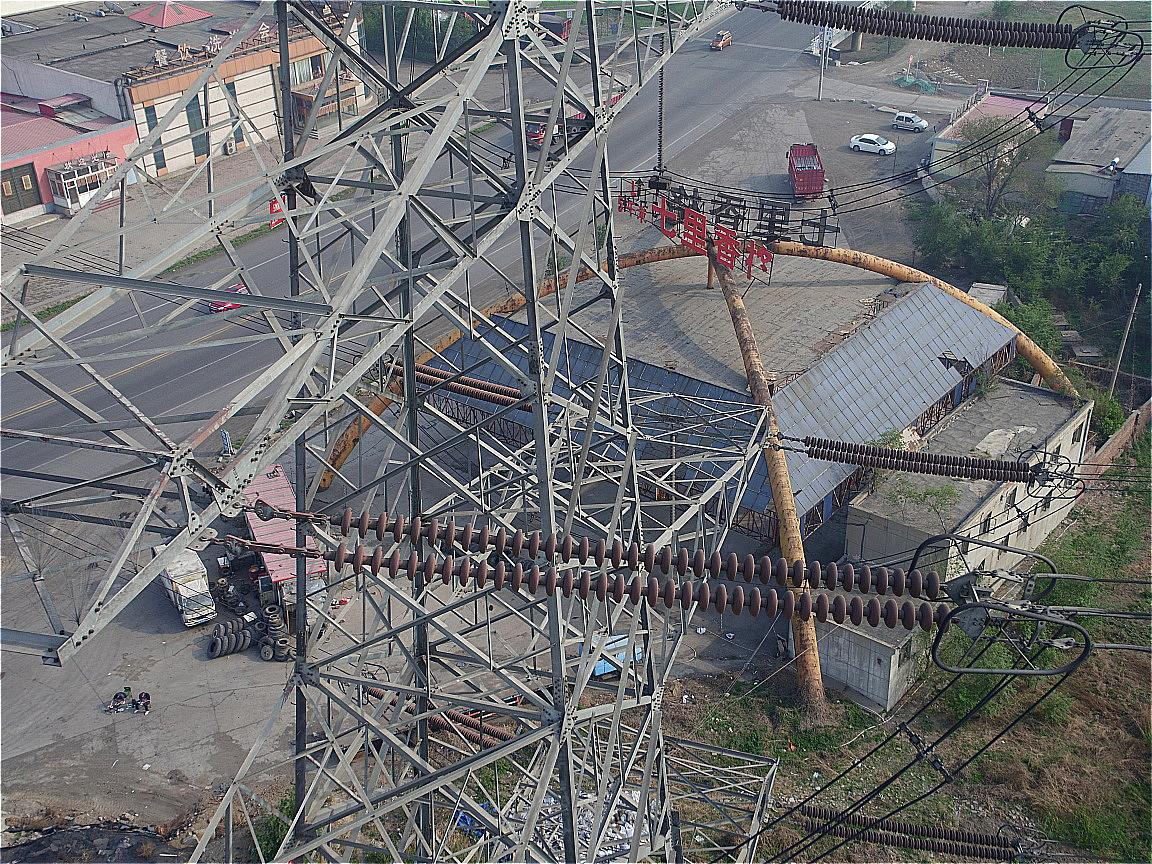insultor1: (334, 507, 952, 634)
insultor2: (778, 1, 1079, 50), (801, 804, 1019, 862), (805, 434, 1036, 486), (389, 357, 533, 413)
